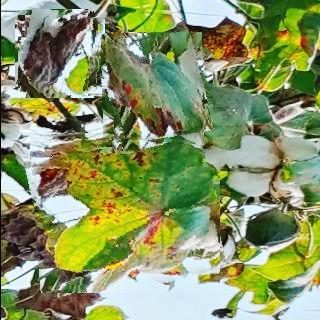blight: (28, 127, 219, 293), (99, 33, 212, 146), (17, 10, 101, 96)
